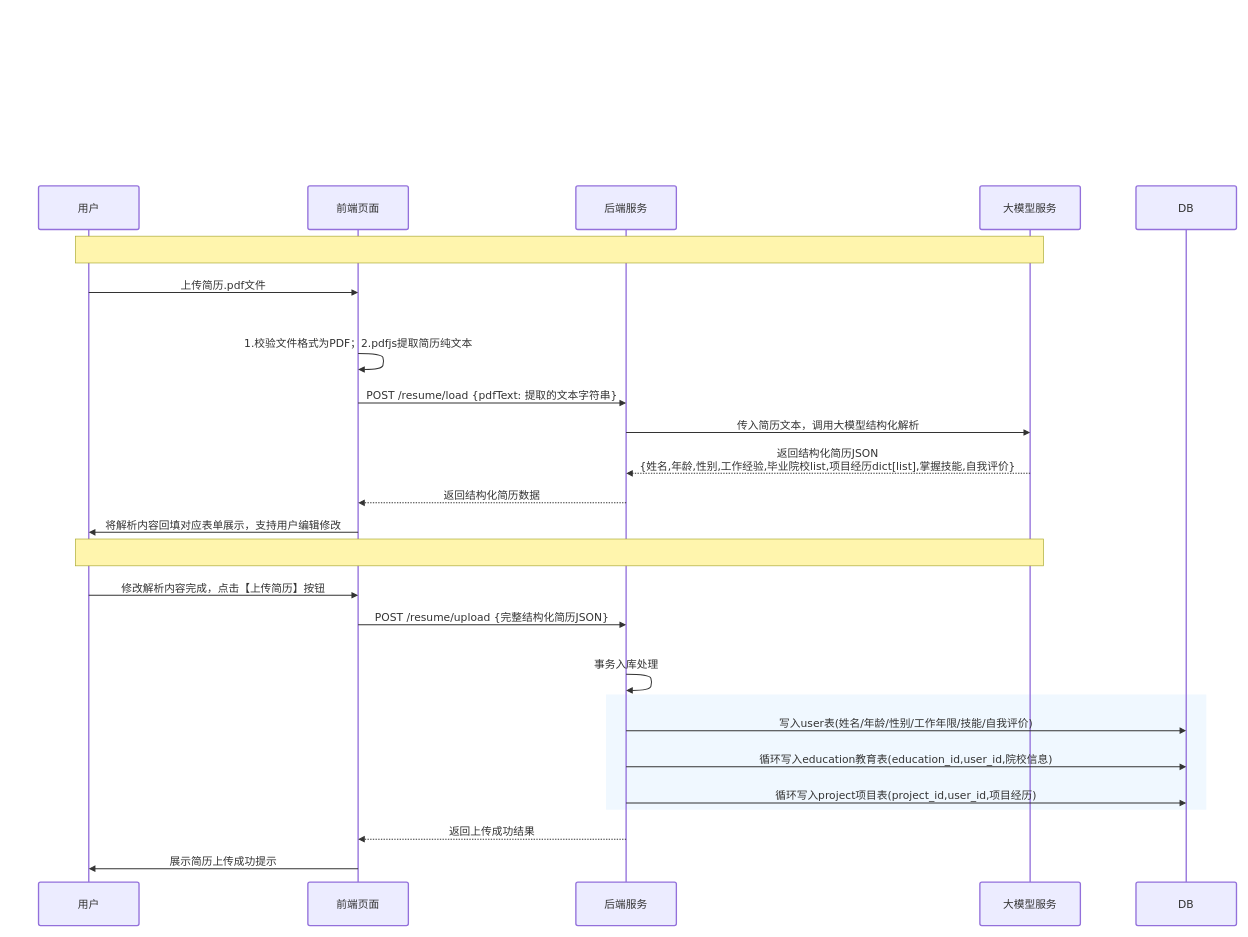
The diagram is 1248 pixels wide and 937 high, and some of its shapes have lost their labels. The shapes that lost their labels are listed below. From the top down, each one's box as (x1, y1, x2, y2) in pixels, then its label:
(75, 236, 1044, 263): 步骤1-5：上传PDF提取文本AI结构化解析
(75, 538, 1044, 566): 步骤6-8：用户编辑完成提交入库
